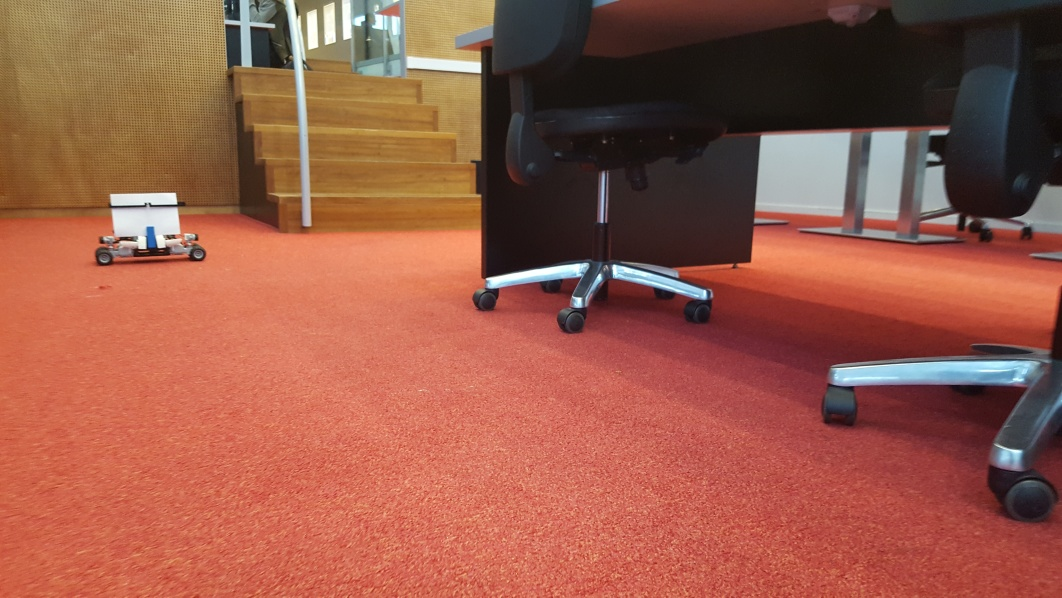car: (92, 189, 208, 267)
